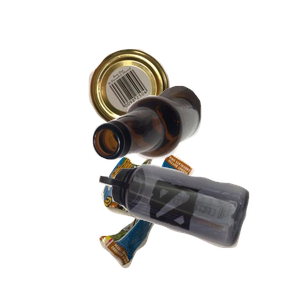glass: (90, 83, 300, 235)
metal: (86, 46, 248, 169)
plastic: (97, 162, 300, 300)
trash: (97, 151, 283, 300)
